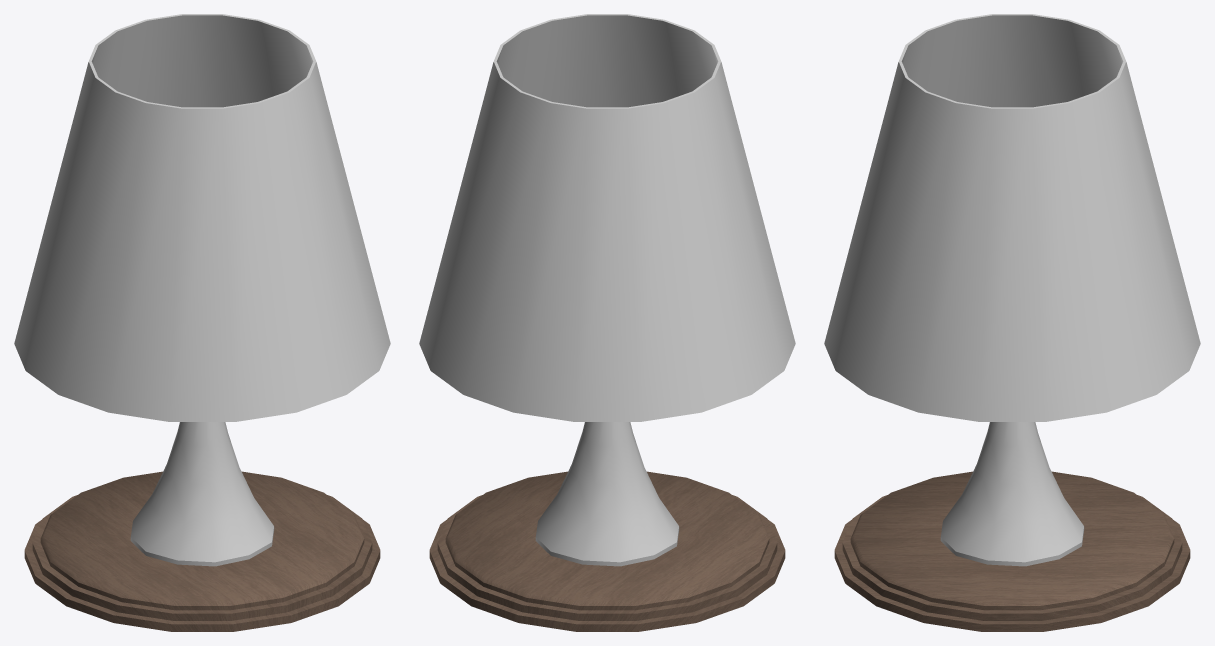
File: D_Desk_Lamp_201.fbx
The picture shows the model from 3 angles, left to right: view 1: azimuth 30°, elevation 25°; view 2: azimuth 150°, elevation 25°; view 3: azimuth 270°, elevation 25°; orthographic projection.
Parts seen in each view (by area): view 1: D_Desk_Lamp_201; view 2: D_Desk_Lamp_201; view 3: D_Desk_Lamp_201.
Boxes of the visible parts, x1,y1,x2,y2 form: D_Desk_Lamp_201: (14,14,390,631); D_Desk_Lamp_201: (419,14,795,631); D_Desk_Lamp_201: (824,14,1200,631).
Bounding box in the file's own units: 0.2326 × 0.3437 × 0.2362.
